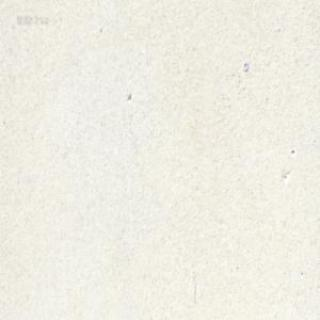Washertrack_idkeyframe: (242, 60, 248, 71)
